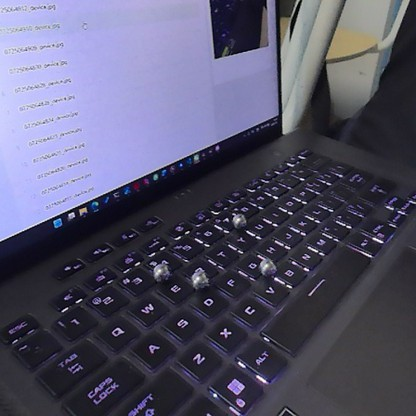ironball: (187, 267, 212, 290), (255, 252, 276, 279), (148, 261, 172, 282), (229, 209, 248, 229)
